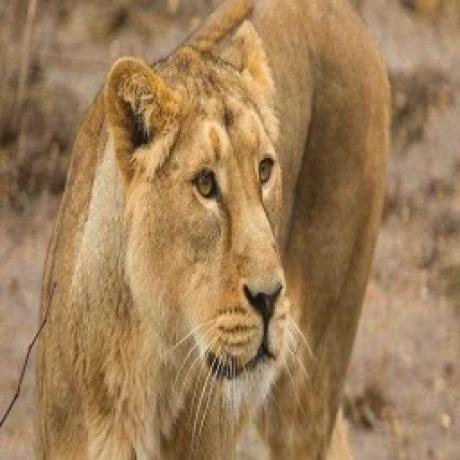Lion: (30, 0, 396, 460)
